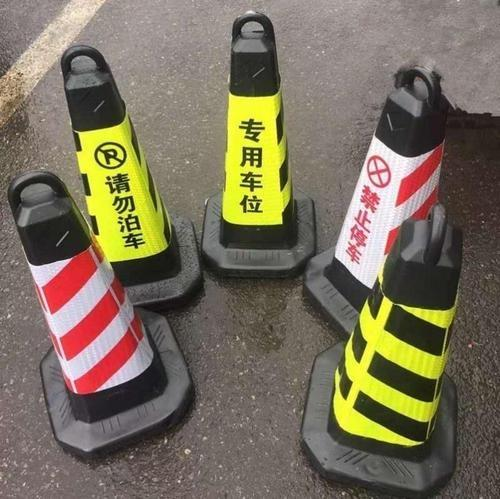cone_barrel: (8, 158, 177, 448), (301, 199, 464, 491), (316, 67, 461, 343), (52, 51, 188, 293), (200, 15, 313, 268)
